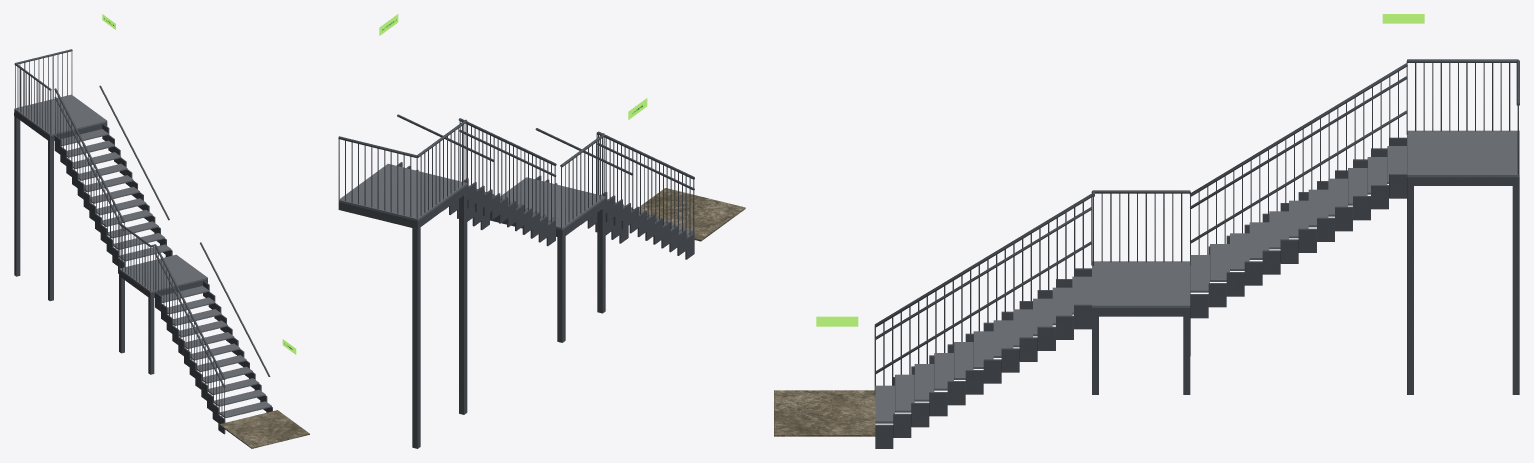
The model's file is 25_n2_escalera_exterior.glb.
3 views of the same model, side by side, from view 1: azimuth 30°, elevation 25°; view 2: azimuth 150°, elevation 25°; view 3: azimuth 270°, elevation 25° (orthographic). The views are drawn at different scales.
Parts seen in each view (by area): view 1: escalera exterior de emergencia · fachada poniente; view 2: escalera exterior de emergencia · fachada poniente; view 3: escalera exterior de emergencia · fachada poniente.
Boxes of the visible parts, left/top/right/bottom form: escalera exterior de emergencia · fachada poniente: left=14, top=49, right=309, bottom=448; escalera exterior de emergencia · fachada poniente: left=338, top=114, right=745, bottom=448; escalera exterior de emergencia · fachada poniente: left=774, top=59, right=1519, bottom=448.
Size of the model in its own units: 1.5 by 6.88 by 10.6.
Materials: 5 (2 with a texture image).
